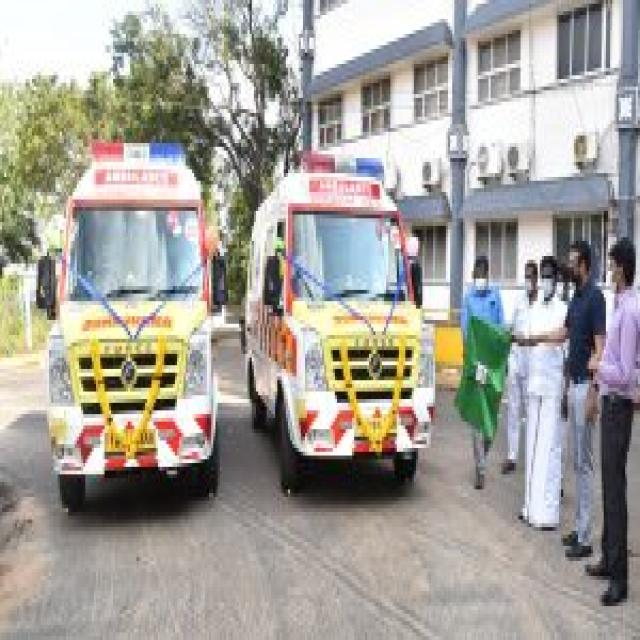ambulance: (244, 152, 432, 488), (46, 140, 218, 506)
